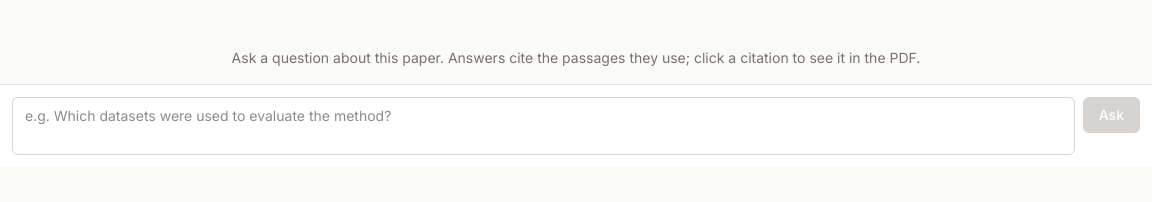
it: Chat › shows a refusal as a notice, not as an answer
Type "Which datasets?" into the text box named "question".
click(543, 126); type("Which datasets?")  # box [12,97,1075,155]
Then press Enter
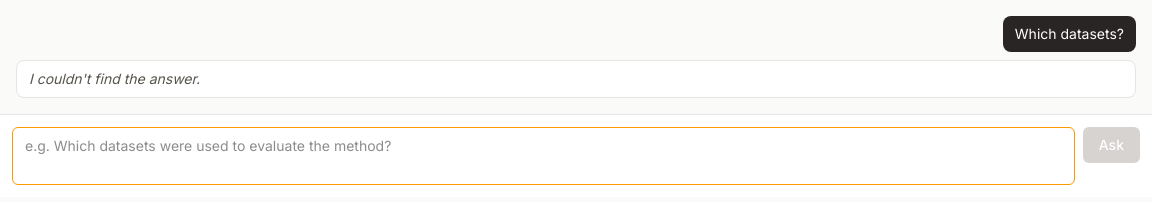
Check: the text "I couldn't find the answer." is shown, box [29,70,200,87]
